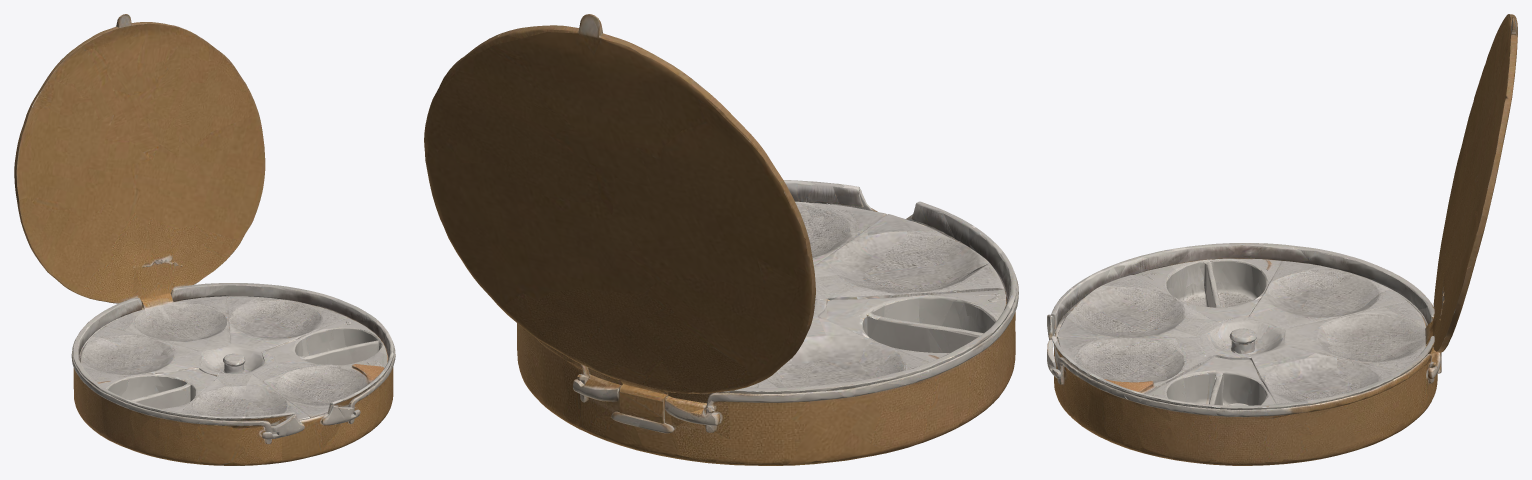
3 views of the same model, side by side, from view 1: azimuth 30°, elevation 25°; view 2: azimuth 150°, elevation 25°; view 3: azimuth 270°, elevation 25° (orthographic). The views are drawn at different scales.
Bounding box in the file's own units: 1.59 × 1.65 × 1.9.
Materials: 1 (1 with a texture image).
